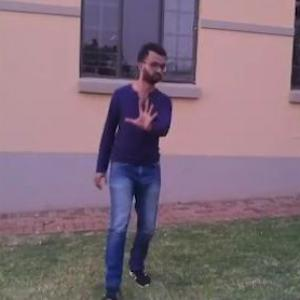follow_hand: (123, 92, 164, 136)
